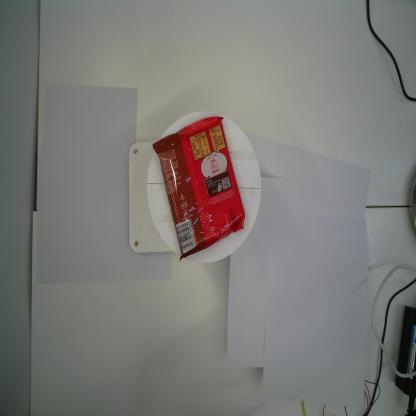Dessert: (152, 117, 245, 262)
